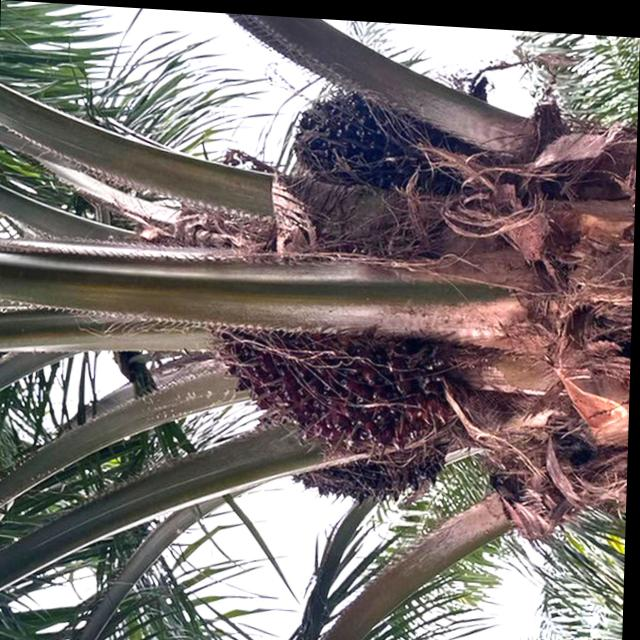ripe: (205, 301, 444, 458), (288, 81, 420, 191)
